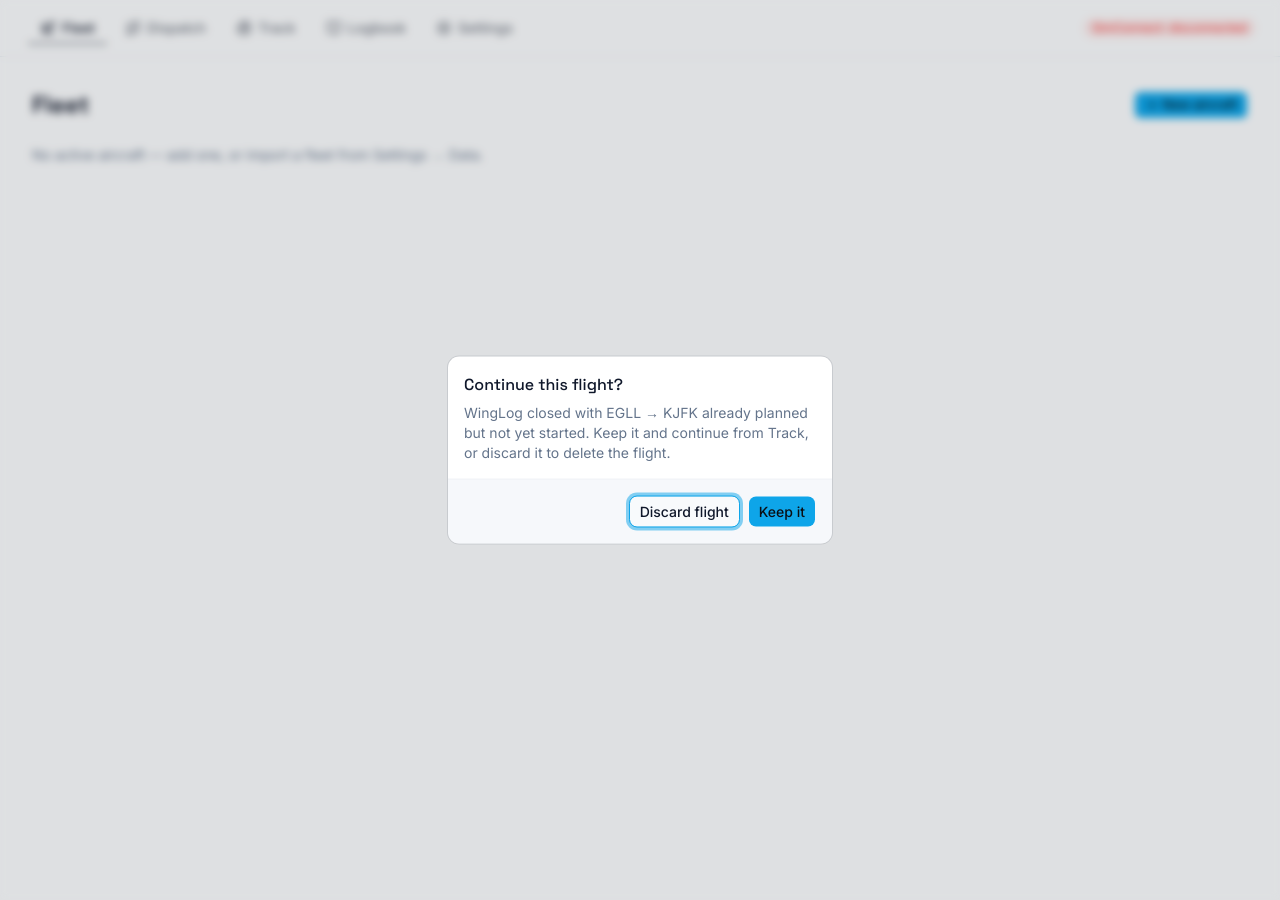
Scenario: App › shows the continue-flight prompt for a merely planned orphaned flight, and discards it
Expected: the heading "Continue this flight?" is shown, [464,372,623,396]
Expected: the text "EGLL → KJFK already planned but not yet started" is shown, [464,404,809,460]
Click the button "Discard flight" at (684, 512), box [629,496,740,528]
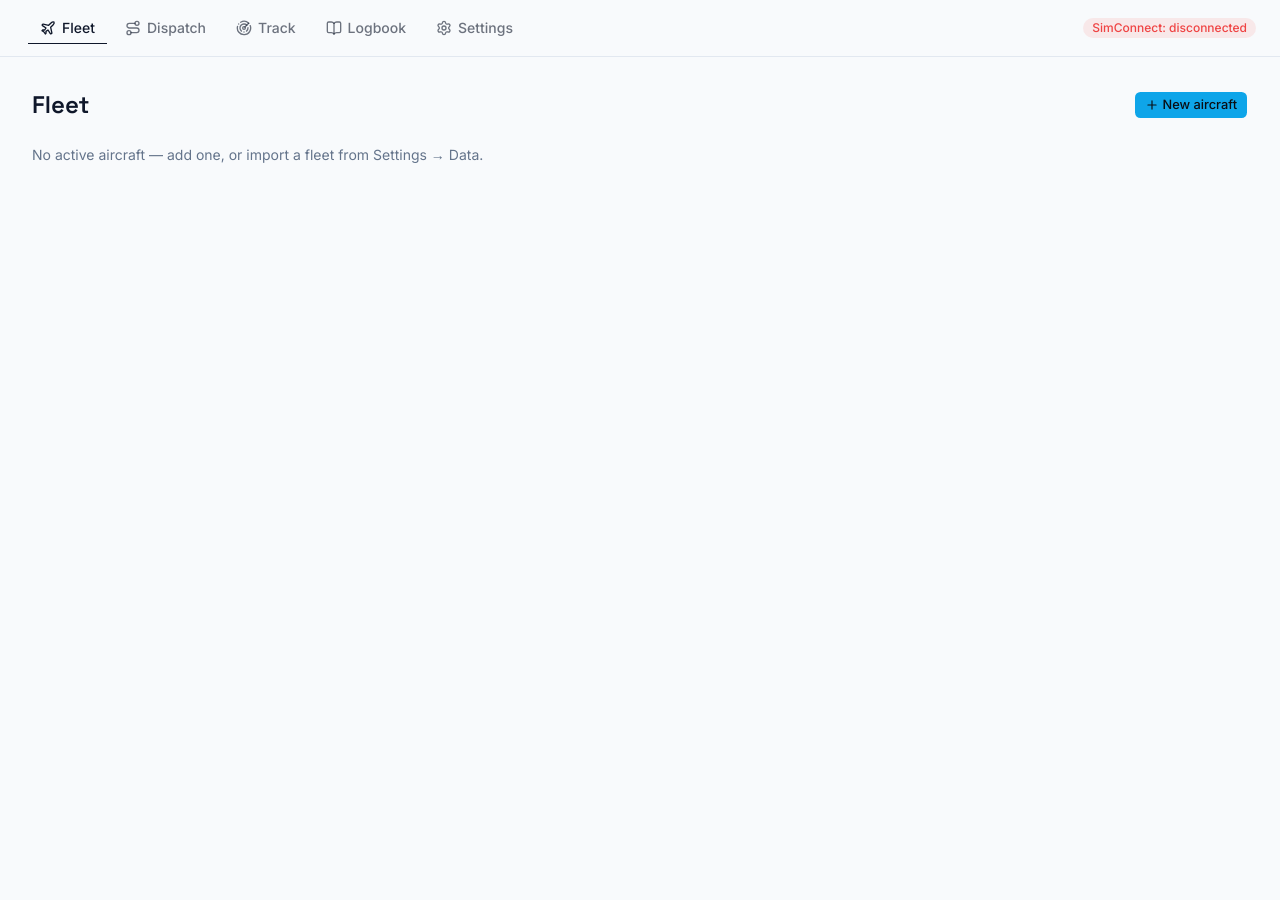
Expected: the heading "Continue this flight?" is gone
